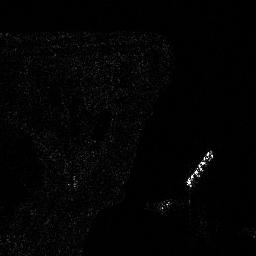ship: (185, 148, 214, 187)
